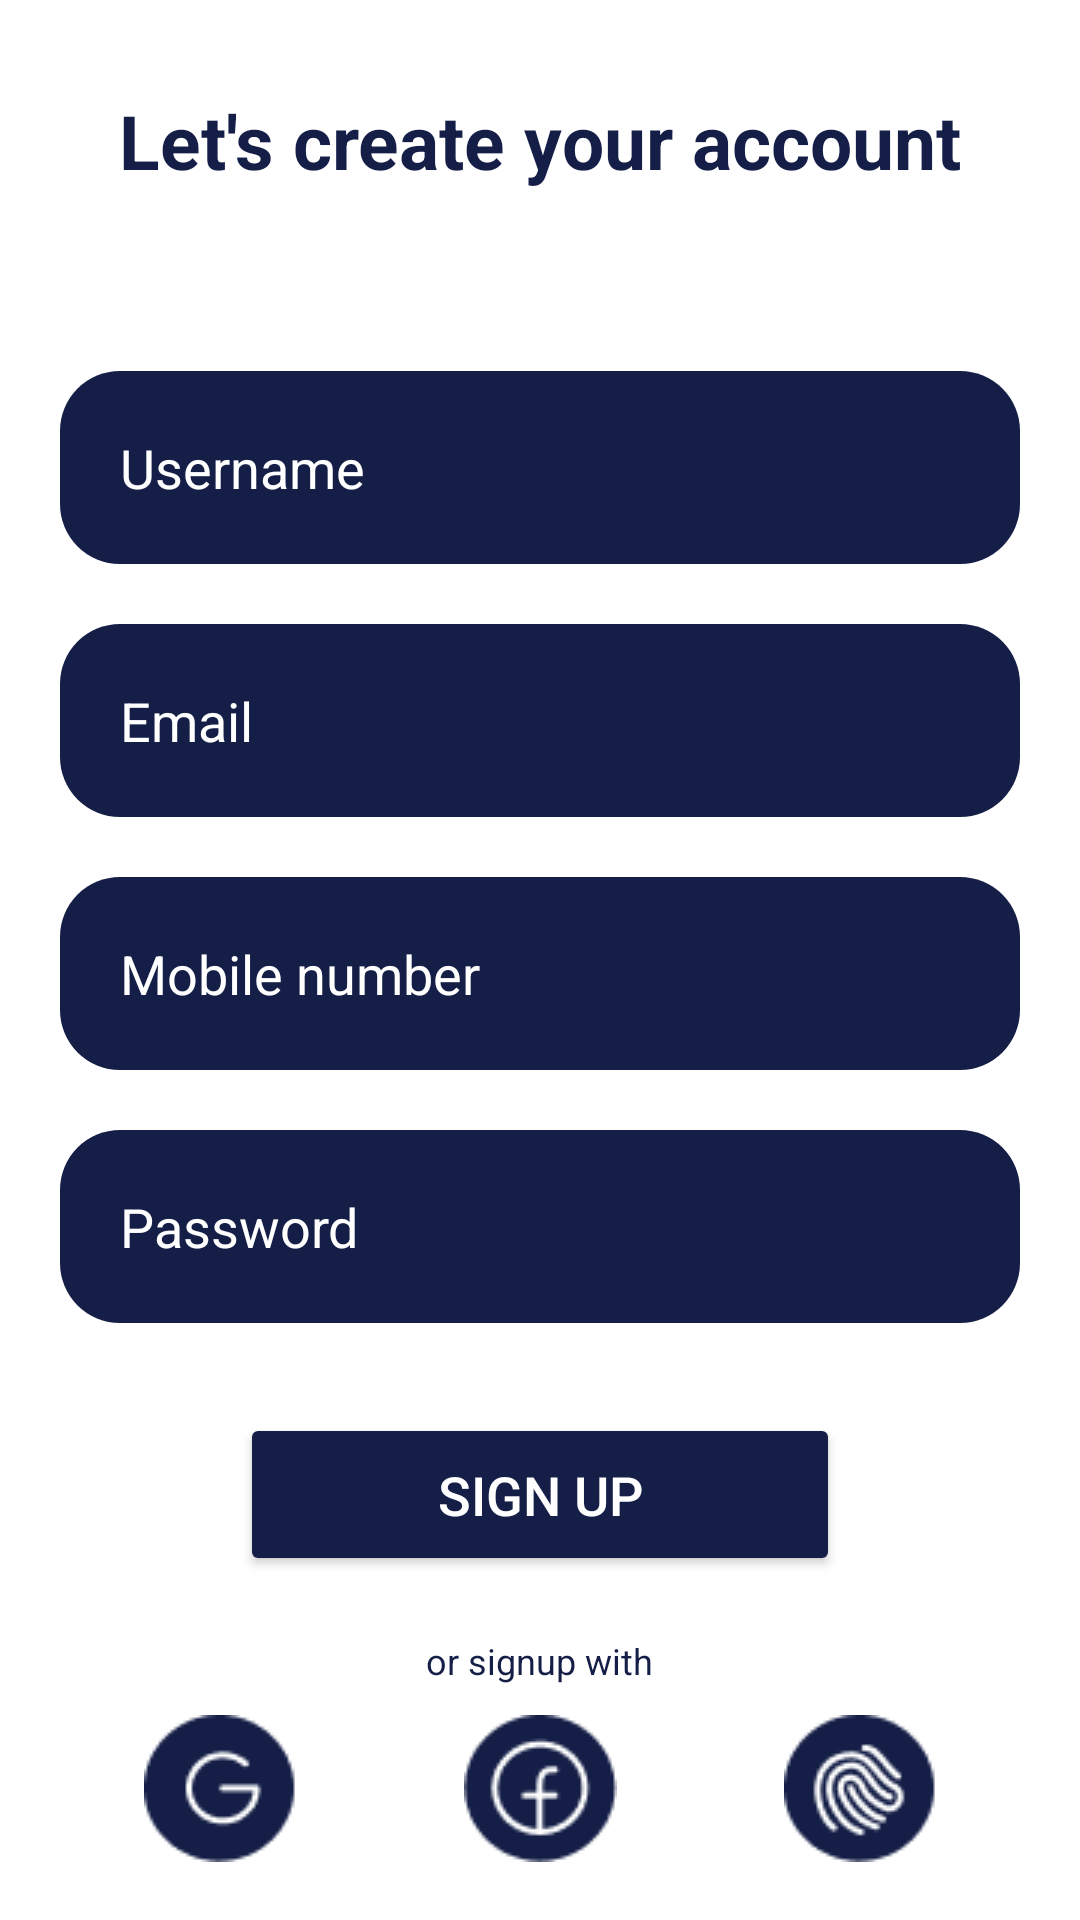

Screen size 1080px x 1920px. Icon name, then its center in pixels as point (x, y):
fingerprint: point (859, 1788)
